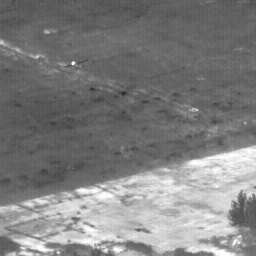aircraft: (72, 62, 74, 64)
